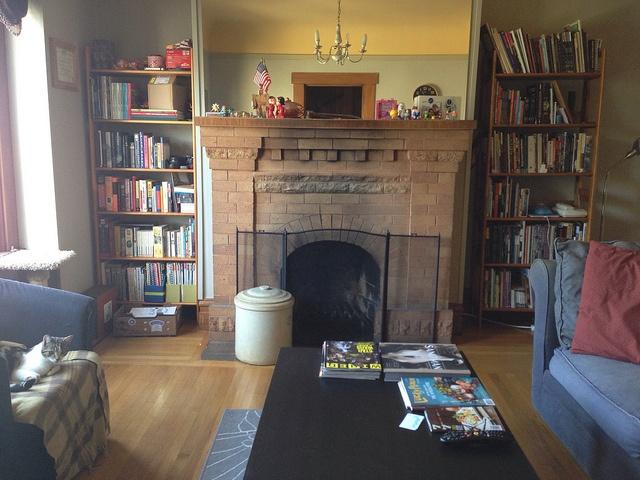Meja: (241, 345, 540, 479)
Rak: (86, 67, 198, 305), (475, 71, 605, 265)
